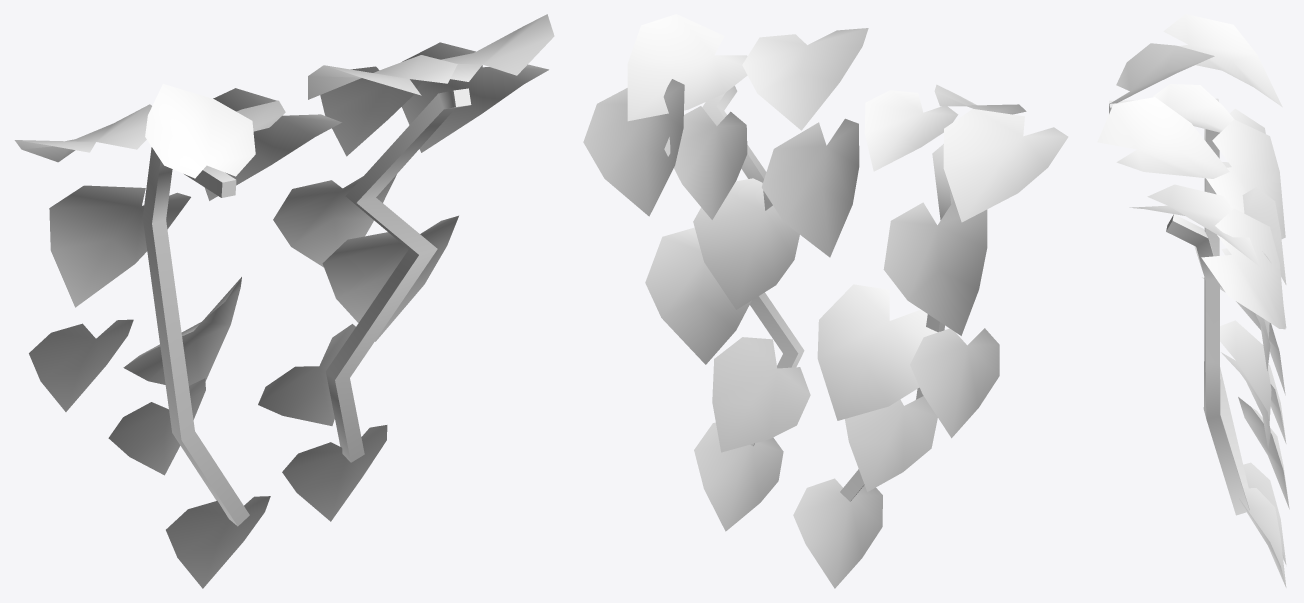
The model's file is SM_Foliage_1x1.fbx.
3 renders of one model, left to right at view 1: azimuth 30°, elevation 25°; view 2: azimuth 150°, elevation 25°; view 3: azimuth 270°, elevation 25°, orthographic. The views are drawn at different scales.
Parts seen in each view (by area): view 1: Liane 1x1; view 2: Liane 1x1; view 3: Liane 1x1.
Part boxes in pixels (bbox=[...]): Liane 1x1: bbox=[14, 14, 554, 588]; Liane 1x1: bbox=[583, 14, 1068, 588]; Liane 1x1: bbox=[1097, 14, 1289, 587].
Bounding box in the file's own units: 110 × 112 × 40.16.
